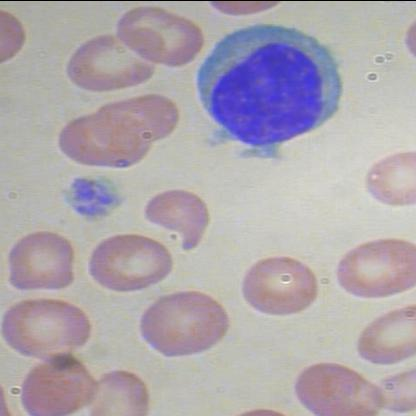RBC: (135, 284, 239, 362), (0, 292, 93, 367), (82, 226, 178, 297), (238, 248, 320, 322), (331, 232, 415, 304), (108, 4, 204, 65), (62, 33, 157, 94), (53, 112, 148, 172), (130, 183, 212, 251), (291, 358, 387, 416), (0, 223, 80, 292), (356, 142, 416, 215)
WBC: (194, 16, 356, 166)
